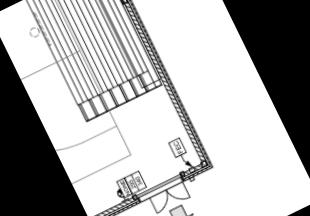double door: (147, 178, 193, 216)
wall: (101, 0, 209, 166), (89, 195, 136, 216)
